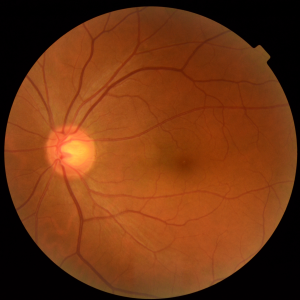glaucoma: (32, 97, 229, 213)
